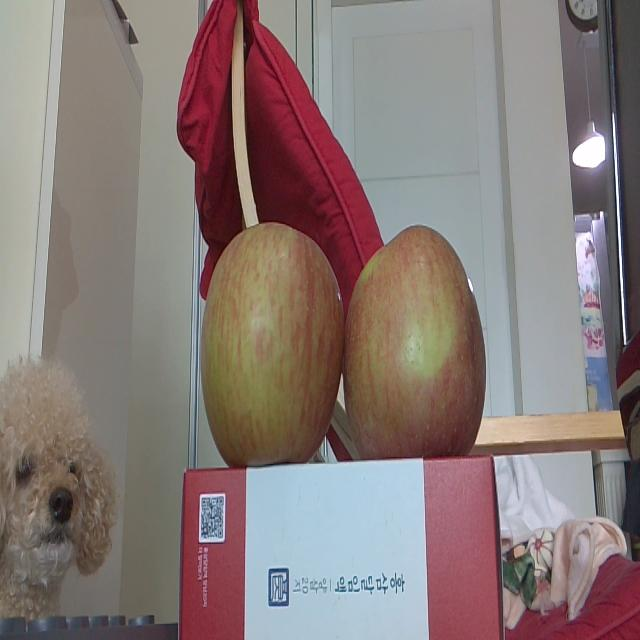apple: (198, 221, 344, 470), (350, 220, 490, 458)
